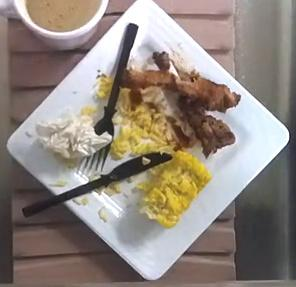corn: (137, 149, 210, 226)
ribs: (120, 66, 238, 154)
rice: (110, 102, 175, 156)
